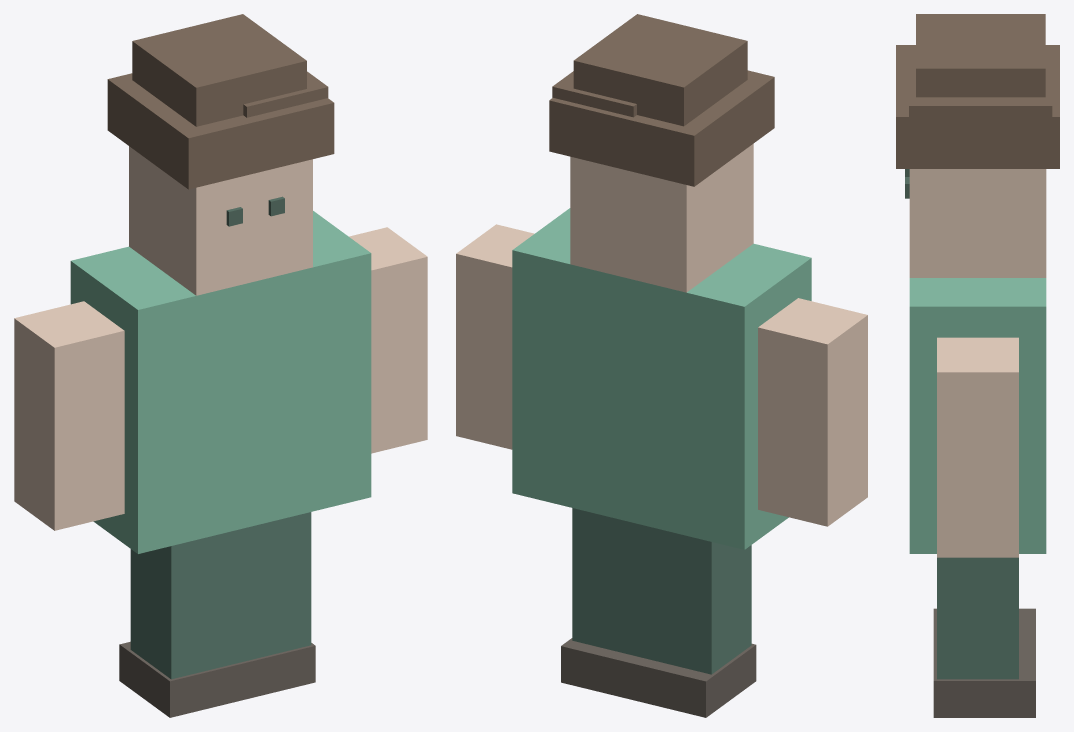
Rendered from character.glb.
3 renders of one model, left to right at view 1: azimuth 30°, elevation 25°; view 2: azimuth 150°, elevation 25°; view 3: azimuth 270°, elevation 25°, orthographic.
Parts seen in each view (by area): view 1: Torso, Arm_L, Head, Leg_L, Hair_Poof, Hair_Tall, Arm_R, Leg_R, Shoe_L, Shoe_R, Hair_Side; view 2: Torso, Arm_L, Head, Leg_L, Hair_Poof, Hair_Tall, Arm_R, Leg_R, Shoe_L, Shoe_R, Hair_Side; view 3: Torso, Arm_R, Head, Hair_Tall, Hair_Side, Leg_R, Shoe_R, Hair_Poof, Shoe_L.
Boxes of the visible parts, x1,y1,x2,y2 form: Torso: (70, 211, 371, 553); Arm_L: (14, 301, 124, 530); Head: (129, 146, 312, 295); Leg_L: (130, 529, 241, 679); Hair_Poof: (107, 73, 334, 189); Hair_Tall: (132, 14, 306, 126); Arm_R: (349, 227, 427, 453); Leg_R: (241, 512, 311, 662); Shoe_L: (119, 641, 245, 717); Shoe_R: (238, 643, 315, 700); Hair_Side: (243, 71, 328, 117); Torso: (512, 208, 811, 549); Arm_L: (758, 298, 867, 526); Head: (570, 144, 753, 292); Leg_L: (642, 525, 751, 674); Hair_Poof: (549, 70, 774, 186); Hair_Tall: (573, 14, 747, 126); Arm_R: (456, 224, 534, 449); Leg_R: (572, 508, 641, 657); Shoe_L: (630, 643, 756, 717); Shoe_R: (561, 638, 643, 700); Hair_Side: (552, 71, 636, 117); Torso: (909, 278, 1046, 553); Arm_R: (937, 337, 1018, 557); Head: (909, 169, 1046, 277); Hair_Tall: (916, 14, 1045, 97); Hair_Side: (909, 65, 1052, 167); Leg_R: (937, 557, 1018, 679); Shoe_R: (933, 646, 1035, 717); Hair_Poof: (896, 45, 1059, 168); Shoe_L: (933, 608, 1035, 646).
Size of the model in its own units: 3.2 by 5.18 by 1.2.
